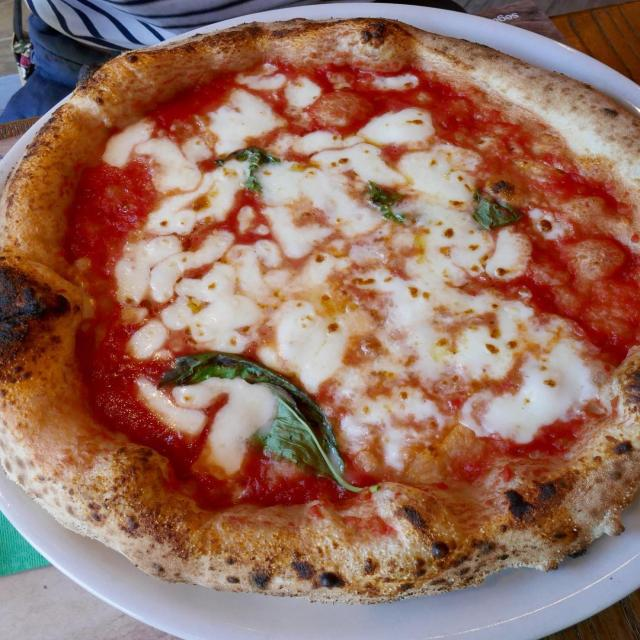basil: (152, 350, 383, 493), (213, 144, 283, 198), (464, 190, 530, 230), (360, 178, 411, 229)
pizza: (0, 14, 640, 609)
